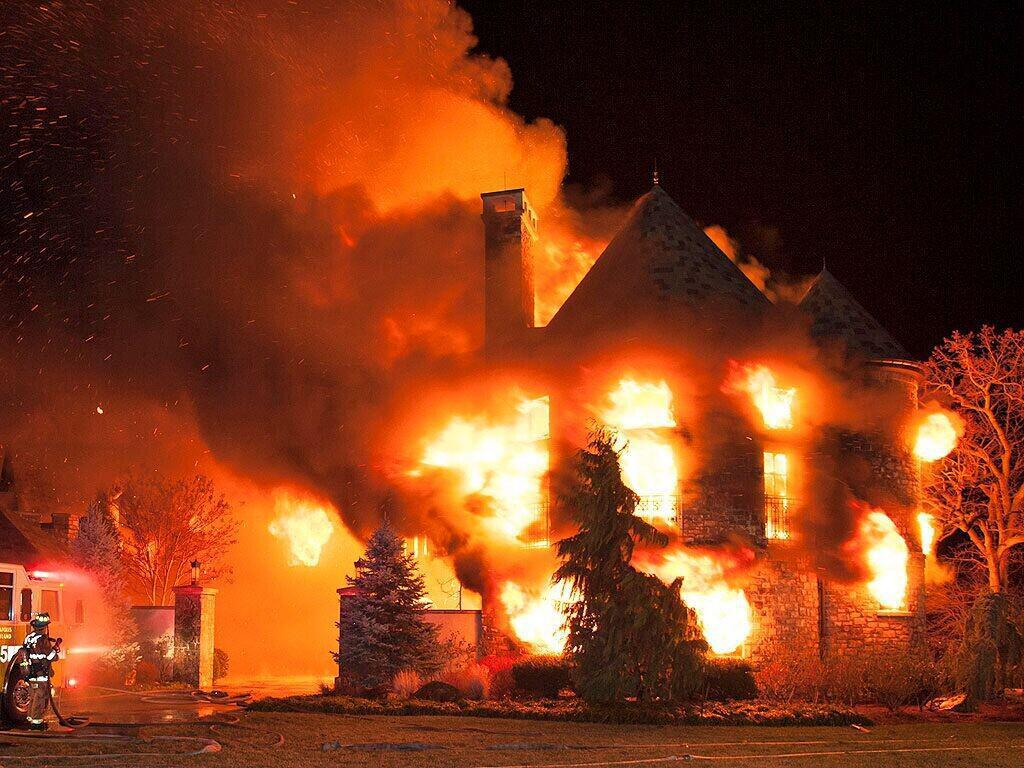fire: (424, 394, 567, 537), (586, 366, 693, 528), (725, 353, 806, 540), (648, 550, 763, 655), (239, 487, 352, 575), (850, 493, 913, 610), (497, 575, 584, 658), (905, 389, 966, 462), (914, 500, 948, 559)
